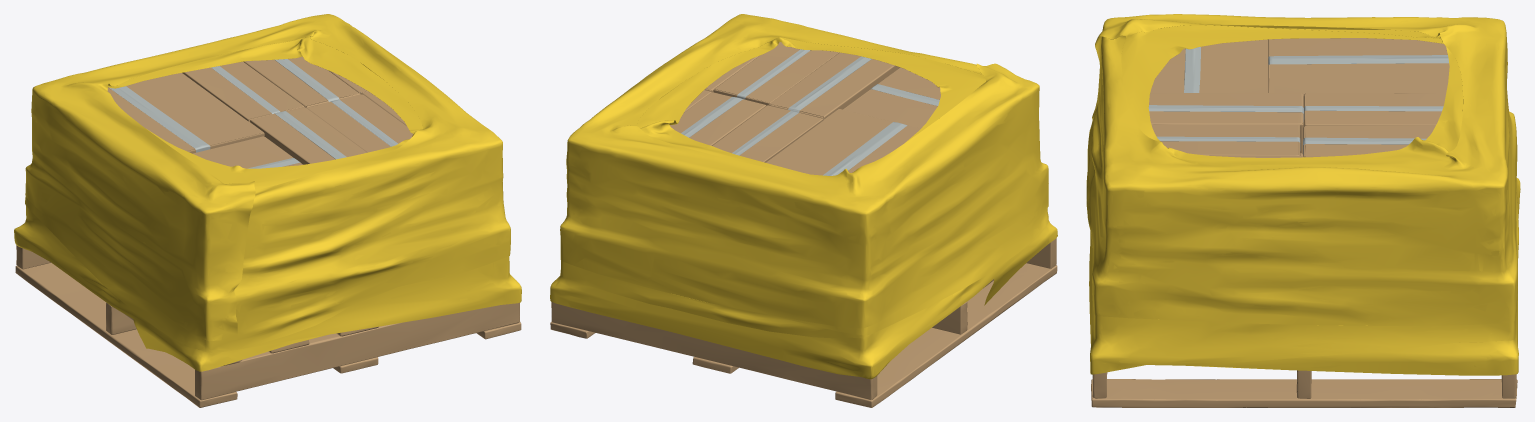
File: pallet_assembly_yellow_a02.glb
3 views of the same model, side by side, from view 1: azimuth 30°, elevation 25°; view 2: azimuth 150°, elevation 25°; view 3: azimuth 270°, elevation 25° (orthographic). The views are drawn at different scales.
Bounding box in the file's own units: 0.9069 × 0.5387 × 0.9166.
